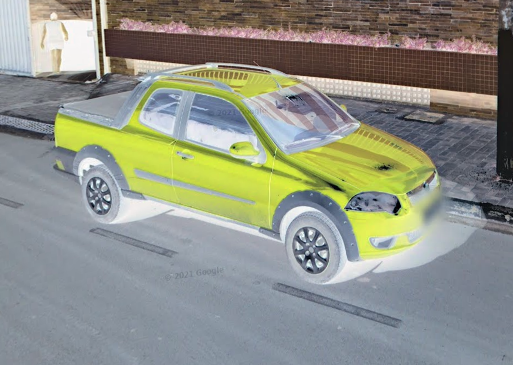car: (49, 57, 449, 287)
